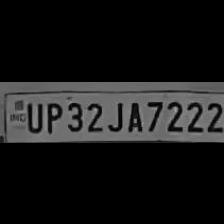2: (162, 96, 184, 132), (84, 96, 104, 132), (183, 96, 203, 132), (202, 99, 222, 134)
3: (64, 96, 82, 132)
7: (142, 96, 162, 132)
A: (124, 96, 142, 132)
J: (105, 96, 124, 132)
P: (43, 99, 62, 134)
U: (22, 99, 42, 134)
